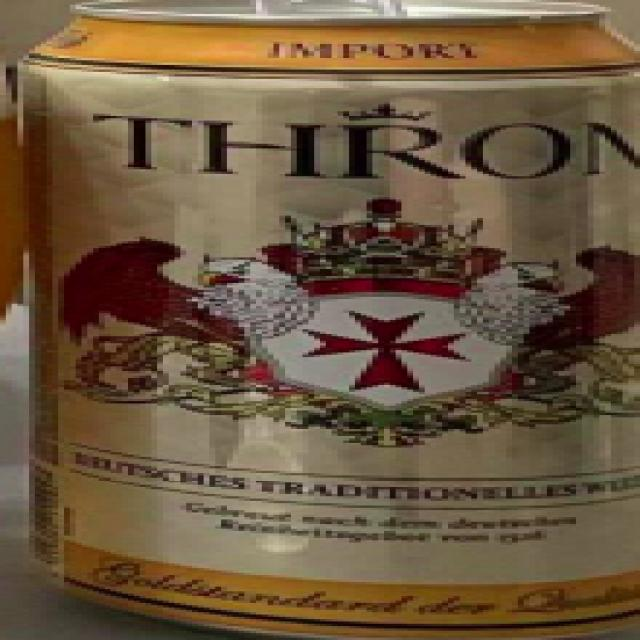THRON WEIZEN: (0, 2, 640, 640)
